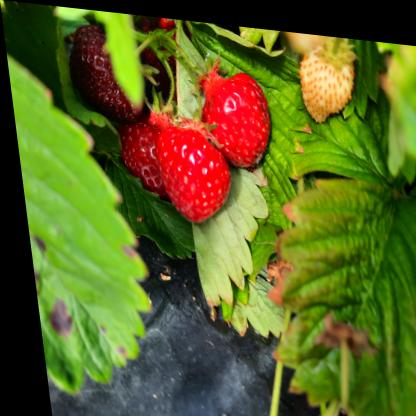ripe: (62, 21, 143, 121), (152, 127, 229, 219), (200, 68, 269, 161), (116, 124, 177, 191)
unripe: (297, 42, 358, 114)
